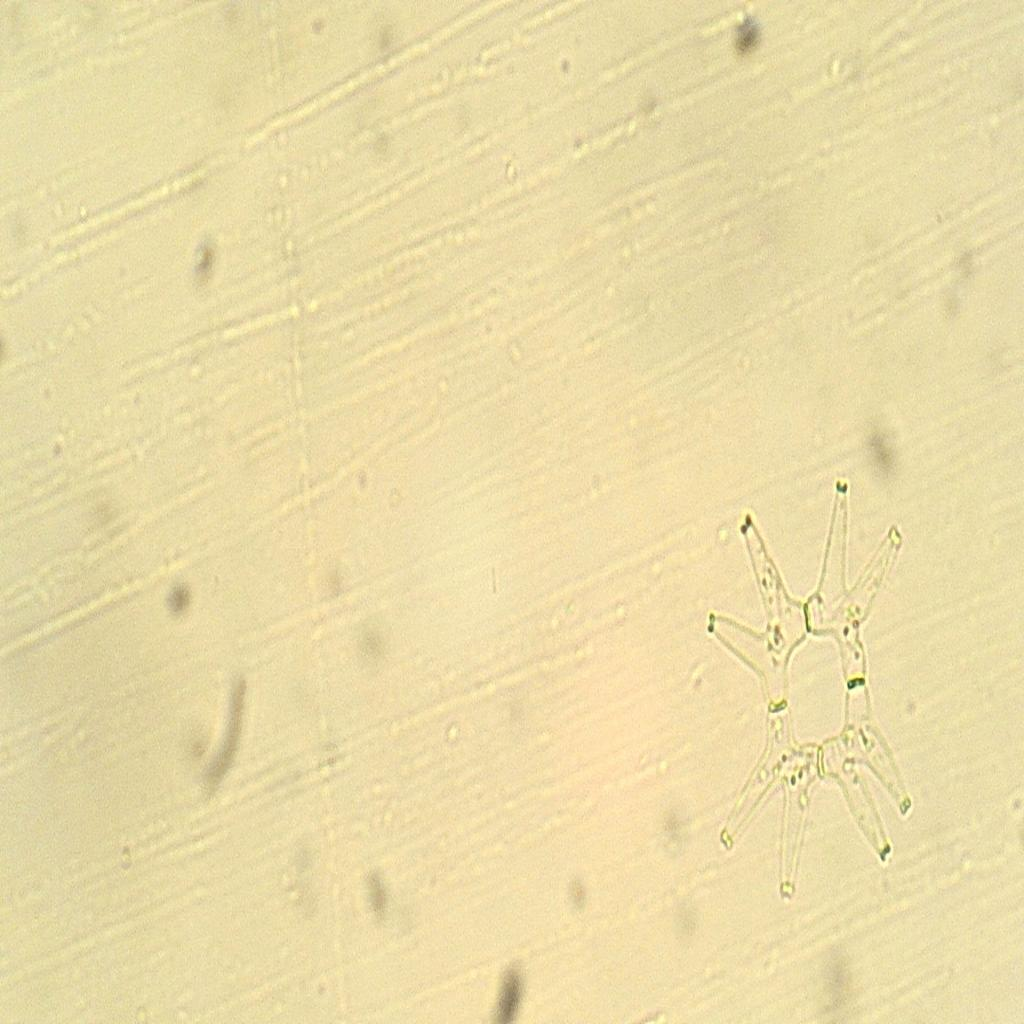Pediastrum_75TH: (667, 450, 954, 931)
